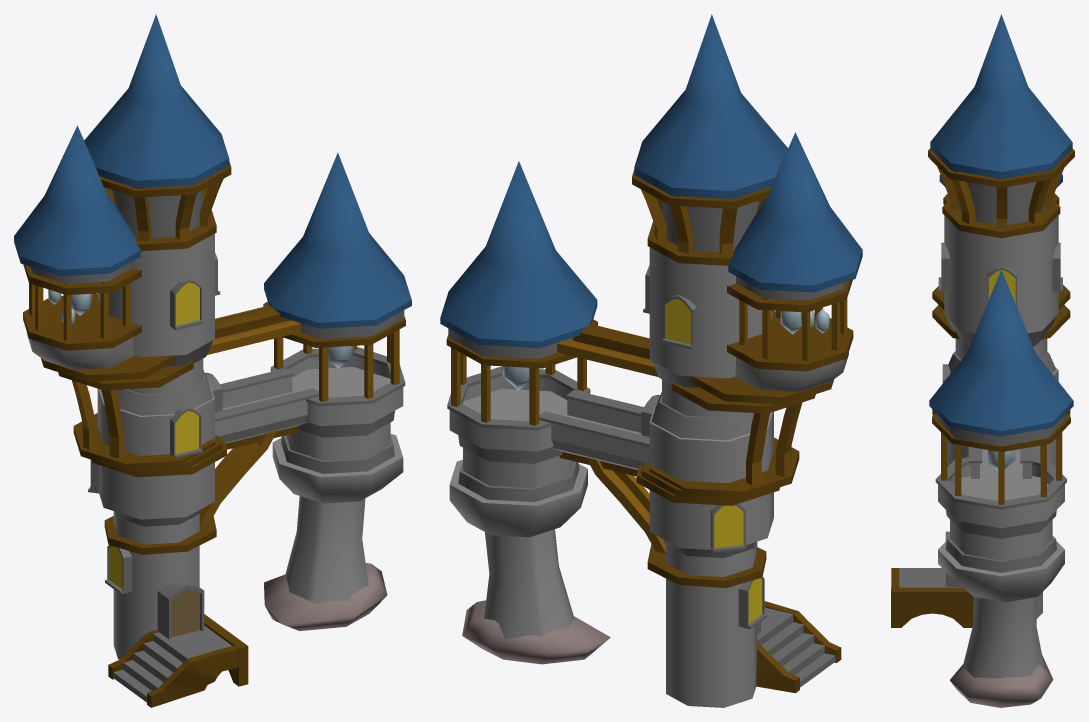
The model's file is mesh_wizards_tower.fbx.
The picture shows the model from 3 angles, left to right: view 1: azimuth 30°, elevation 25°; view 2: azimuth 150°, elevation 25°; view 3: azimuth 270°, elevation 25°; orthographic projection. The views are drawn at different scales.
Parts seen in each view (by area): view 1: wizards_tower; view 2: wizards_tower; view 3: wizards_tower.
Part boxes in pixels (x1,y1,x2,y2): wizards_tower: (14,14,411,707); wizards_tower: (440,14,862,707); wizards_tower: (891,14,1074,707).
Size of the model in its own units: 2153 by 3410 by 949.
Materials: 1 (1 with a texture image).
